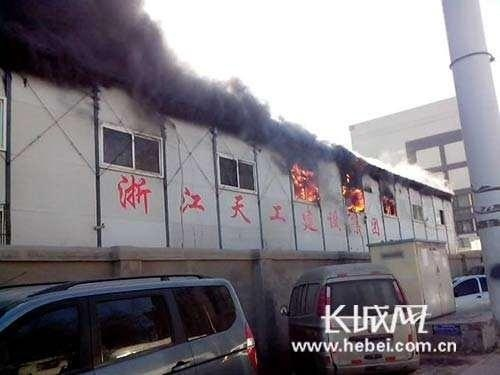fire: (291, 164, 319, 201), (340, 176, 367, 213)
